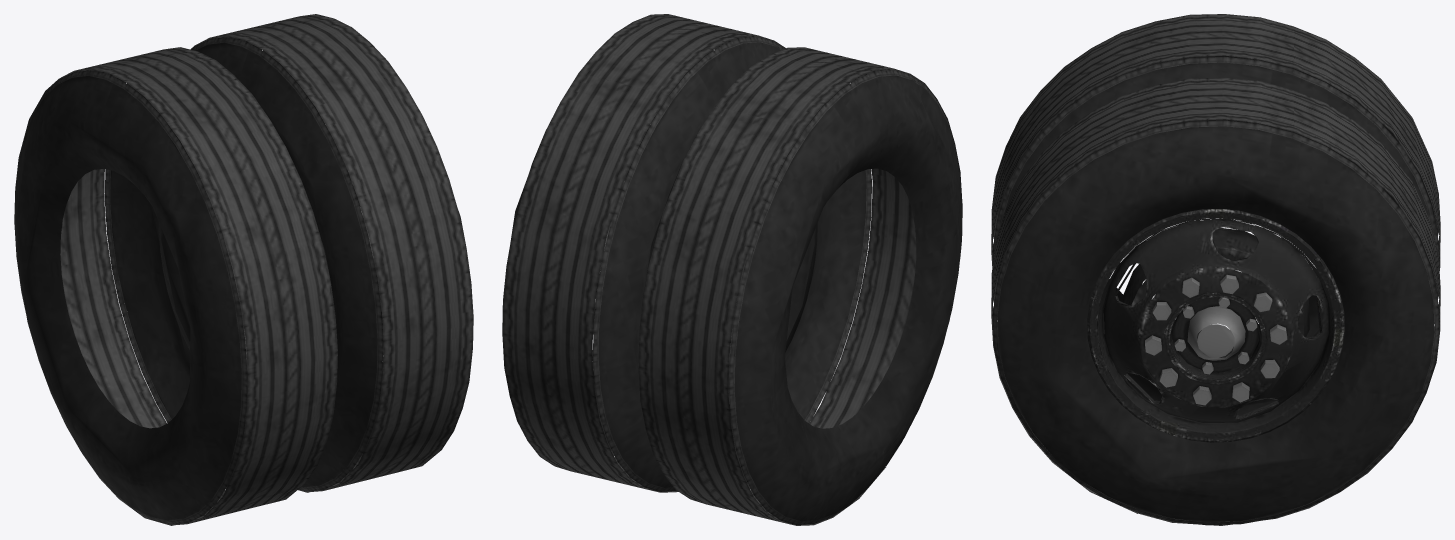
File: tm_wheel_a1_R.glb
3 renders of one model, left to right at view 1: azimuth 30°, elevation 25°; view 2: azimuth 150°, elevation 25°; view 3: azimuth 270°, elevation 25°, orthographic. The views are drawn at different scales.
Visible parts, largest first — view 1: wheel_(1, 1); view 2: wheel_(1, 1); view 3: wheel_(1, 1).
Boxes of the visible parts, x1,y1,x2,y2 form: wheel_(1, 1): (14, 14, 473, 525); wheel_(1, 1): (502, 14, 962, 525); wheel_(1, 1): (991, 14, 1440, 525).
Bounding box in the file's own units: 63.96 × 90.86 × 90.38.
1 material, 1 textured.
